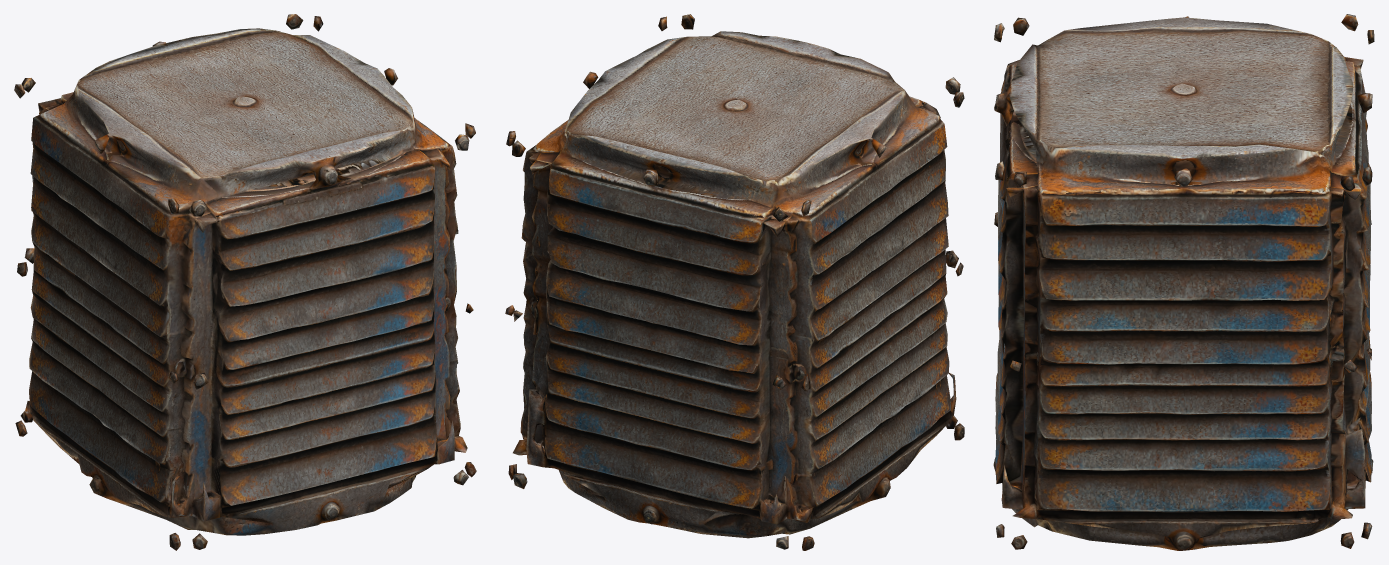
File: BK_VentCover.fbx
3 views of the same model, side by side, from view 1: azimuth 30°, elevation 25°; view 2: azimuth 150°, elevation 25°; view 3: azimuth 270°, elevation 25° (orthographic). The views are drawn at different scales.
Visible parts, largest first — view 1: texture_mapping; view 2: texture_mapping; view 3: texture_mapping.
Boxes of the visible parts, bbox=[...] form: texture_mapping: bbox=[14, 14, 476, 550]; texture_mapping: bbox=[505, 14, 964, 550]; texture_mapping: bbox=[993, 14, 1374, 550].
Size of the model in its own units: 0.8723 by 0.8766 by 0.9991.
Materials: 1 (1 with a texture image).
